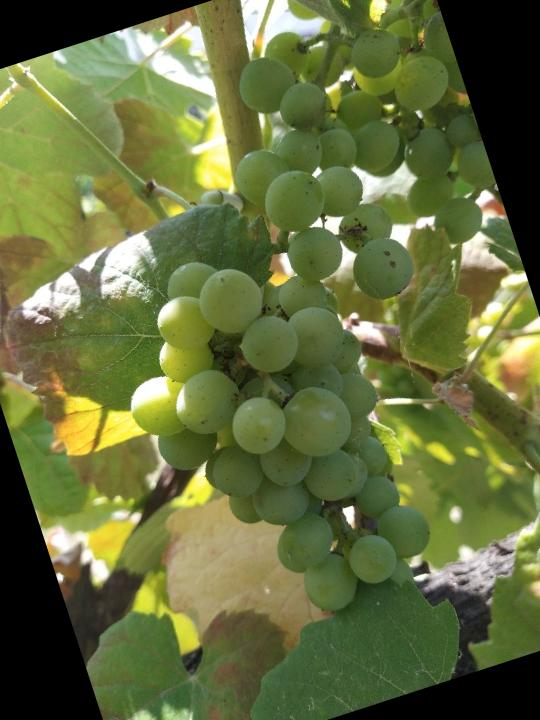grape: (88, 213, 448, 660), (193, 0, 514, 335)
